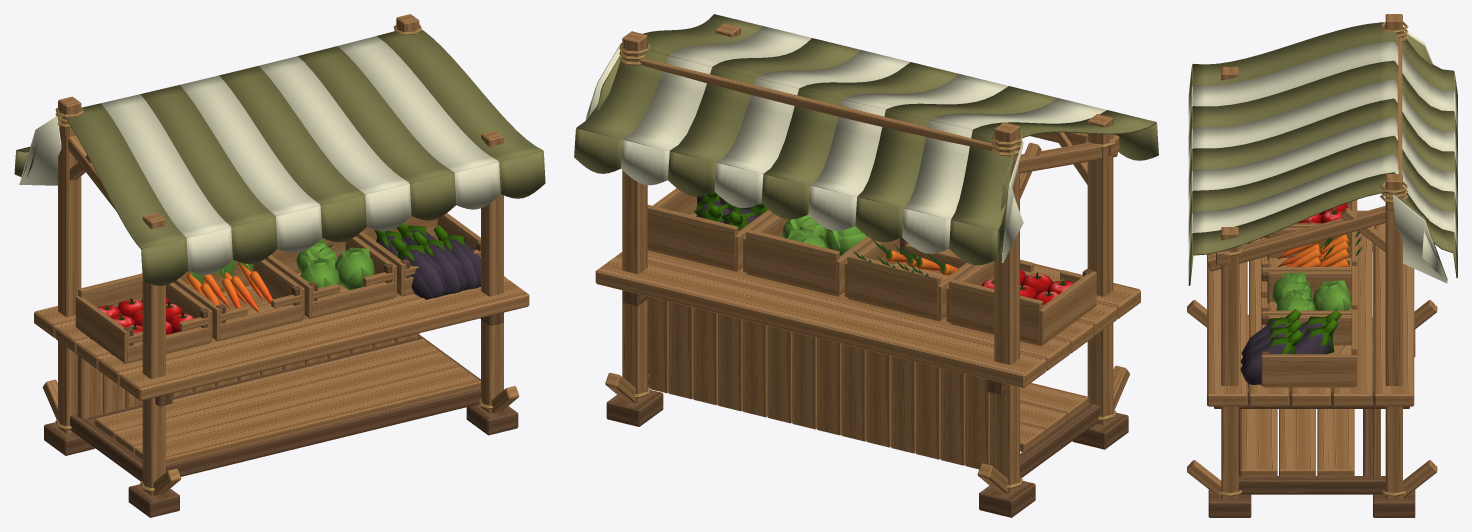
File: MarketStand_A.fbx
3 views of the same model, side by side, from view 1: azimuth 30°, elevation 25°; view 2: azimuth 150°, elevation 25°; view 3: azimuth 270°, elevation 25° (orthographic). The views are drawn at different scales.
Parts seen in each view (by area): view 1: MarketStand_A_LOD0; view 2: MarketStand_A_LOD0; view 3: MarketStand_A_LOD0.
Part boxes in pixels (x1,y1,x2,y2): MarketStand_A_LOD0: (14,14,545,517); MarketStand_A_LOD0: (574,14,1158,517); MarketStand_A_LOD0: (1187,14,1457,517).
Size of what is drawn, in the model's own units: 3.4 by 2.78 by 2.05.
